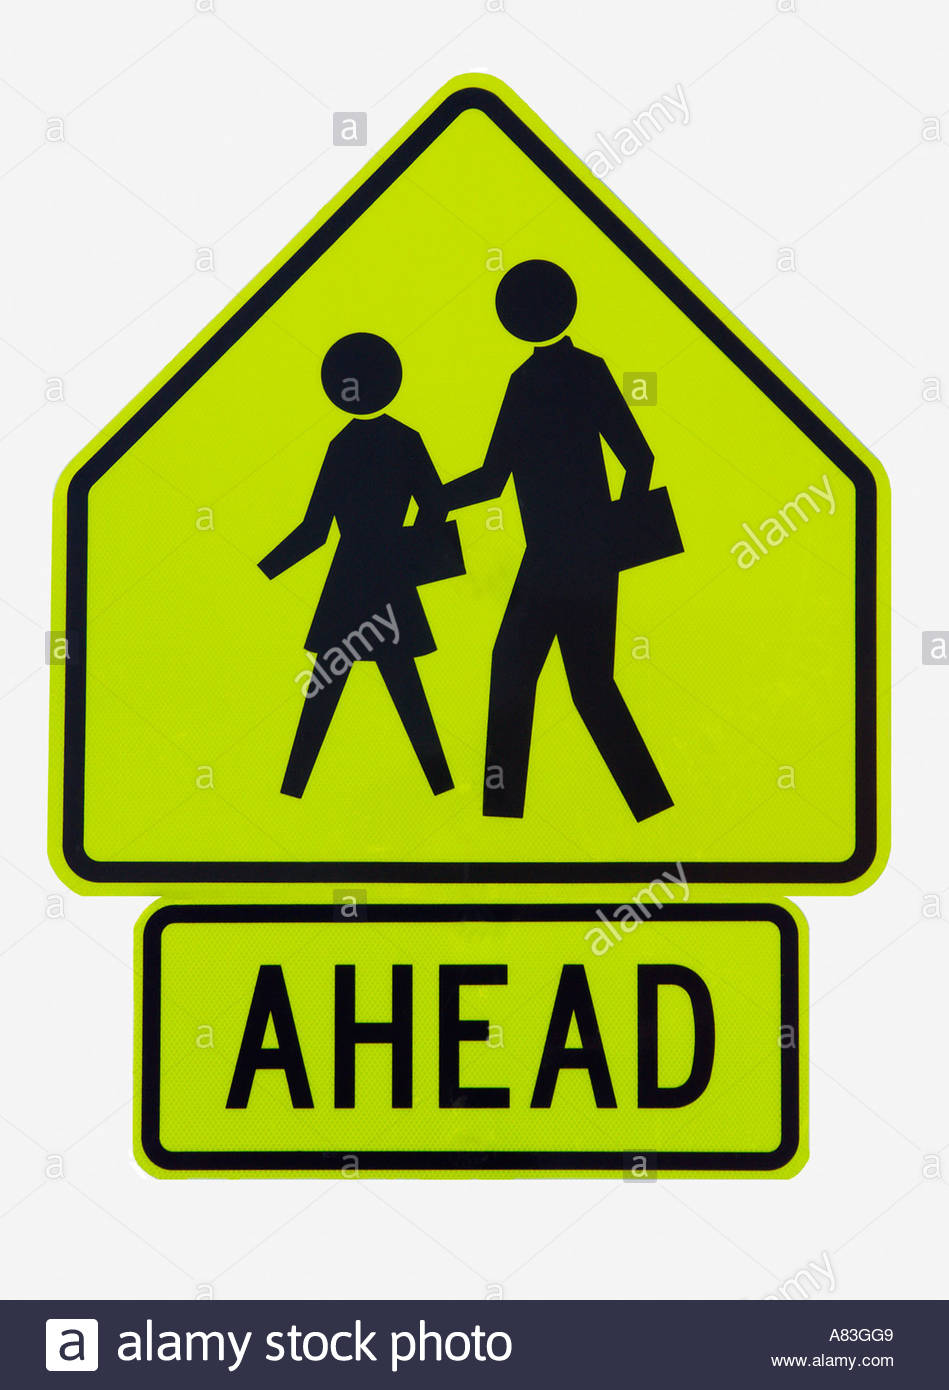slow: (46, 73, 889, 898)
